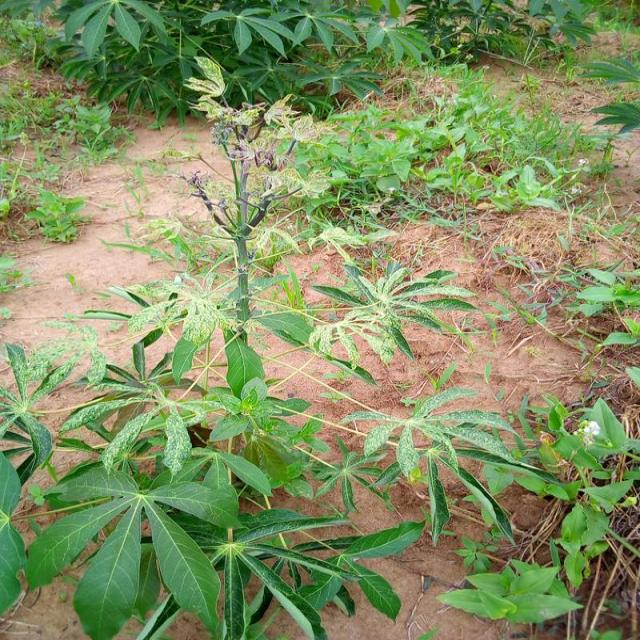cassava leaf: (142, 496, 222, 636)
